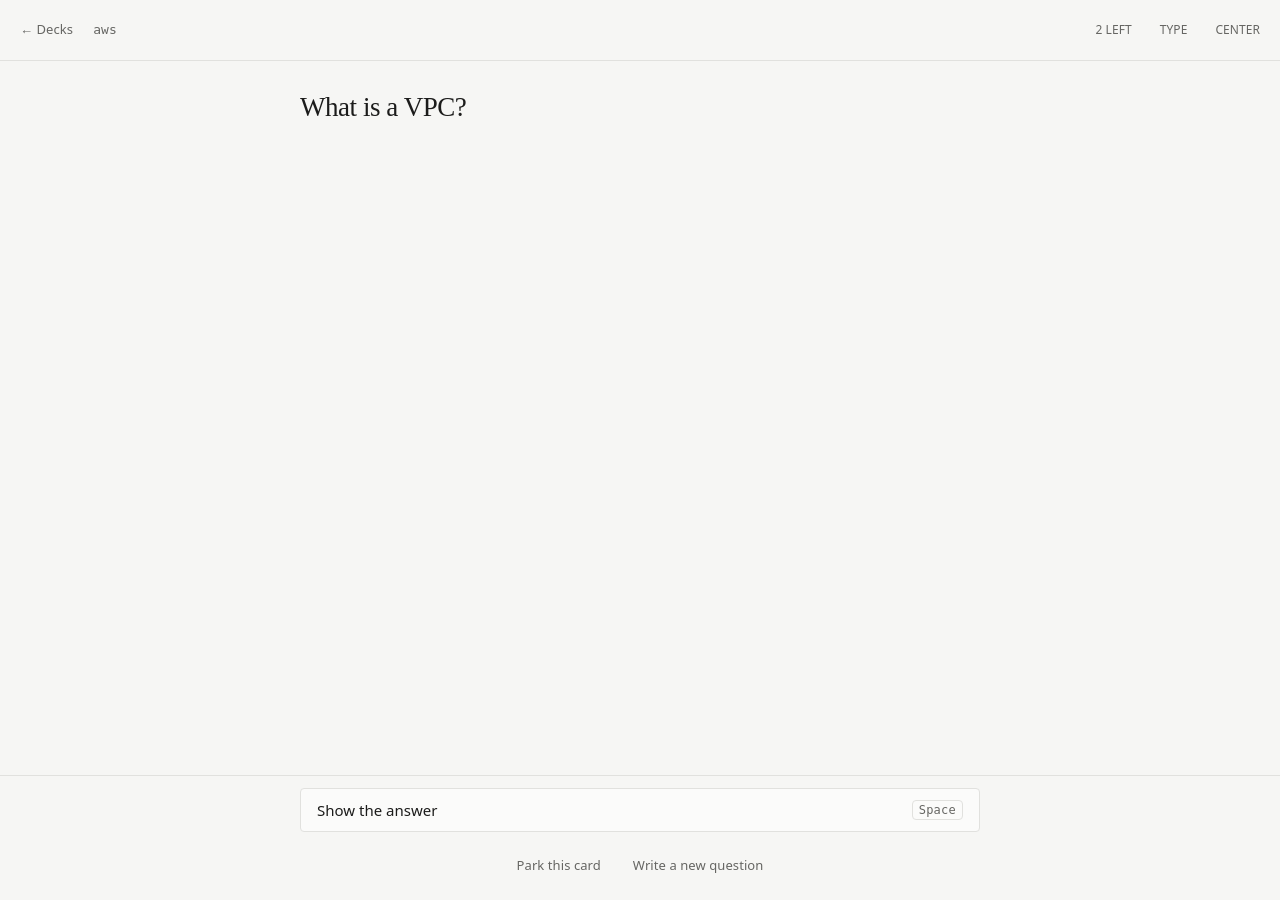
ReviewSession undoing the last step (#600) › #1135 I2 an undo pressed while the rating's write retries lands after it and brings the card back
Expected: the field with class "cm-content" is shown, [300,92,466,122]
Click the button "Show the answer Space".
click(377, 810)  # box [300,788,980,832]
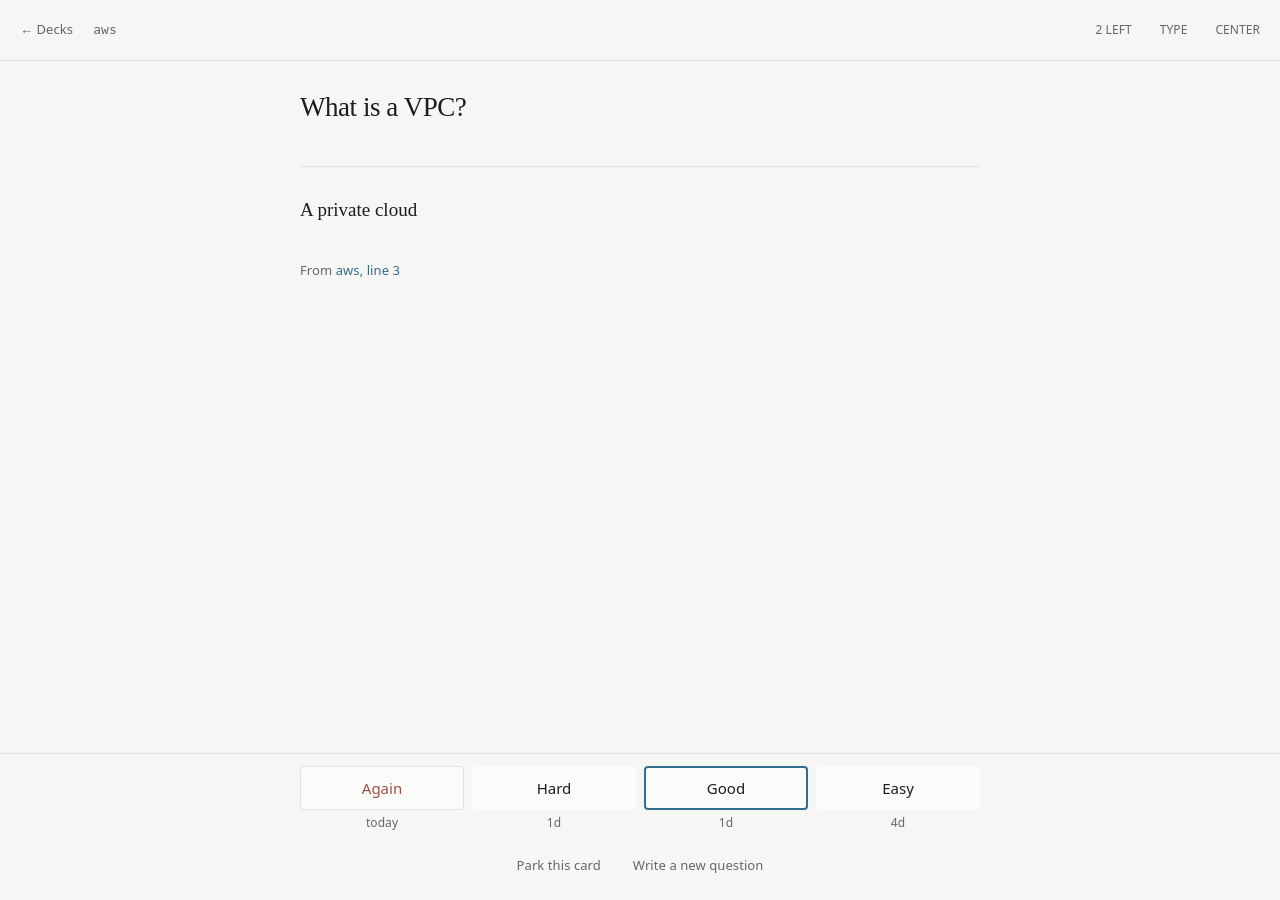
Click the button "Good".
click(726, 788)  # box [644,766,808,810]
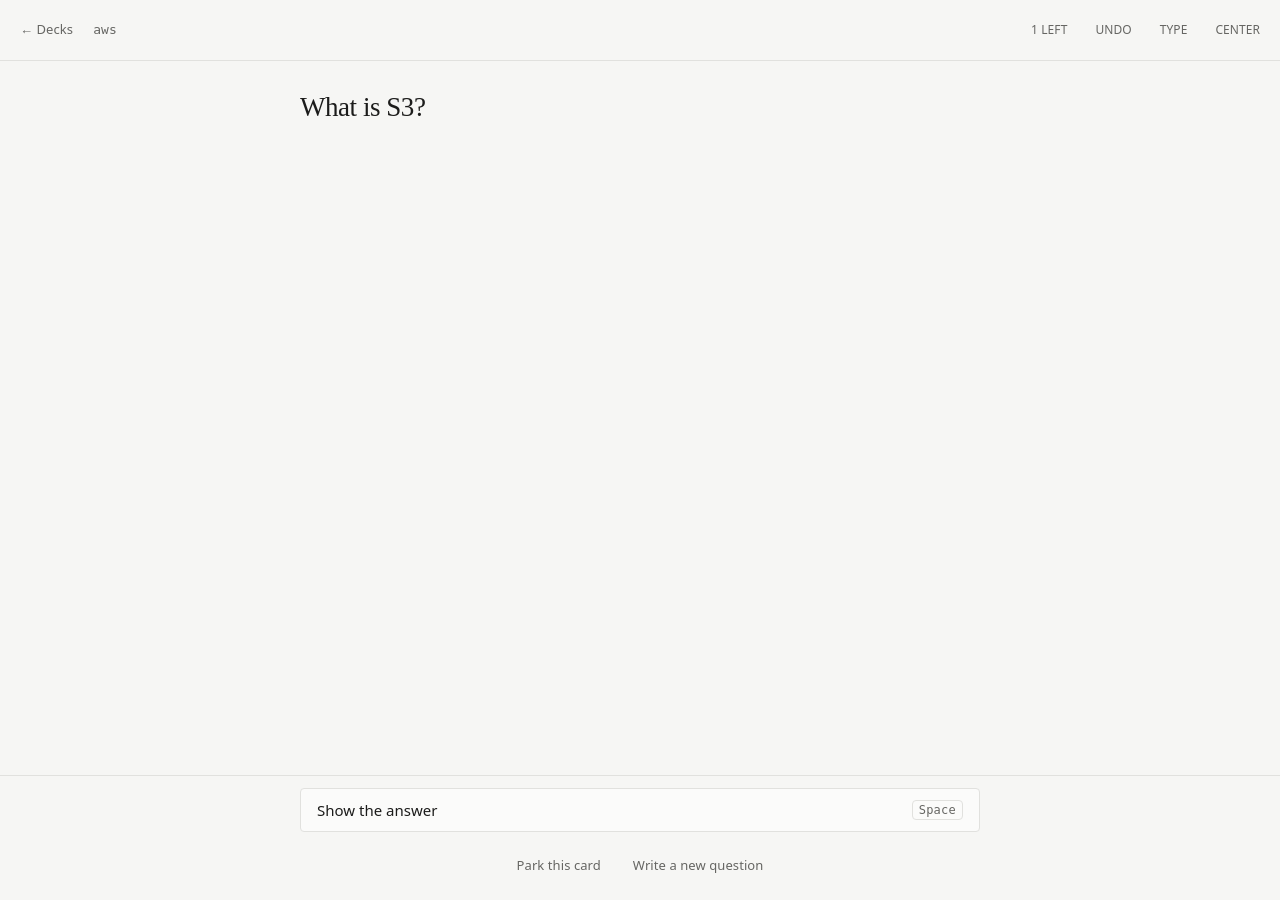
Now the button "Undo" is shown
Click the button "Undo".
click(1114, 30)  # box [1087,8,1140,52]
Wait 1000 ms
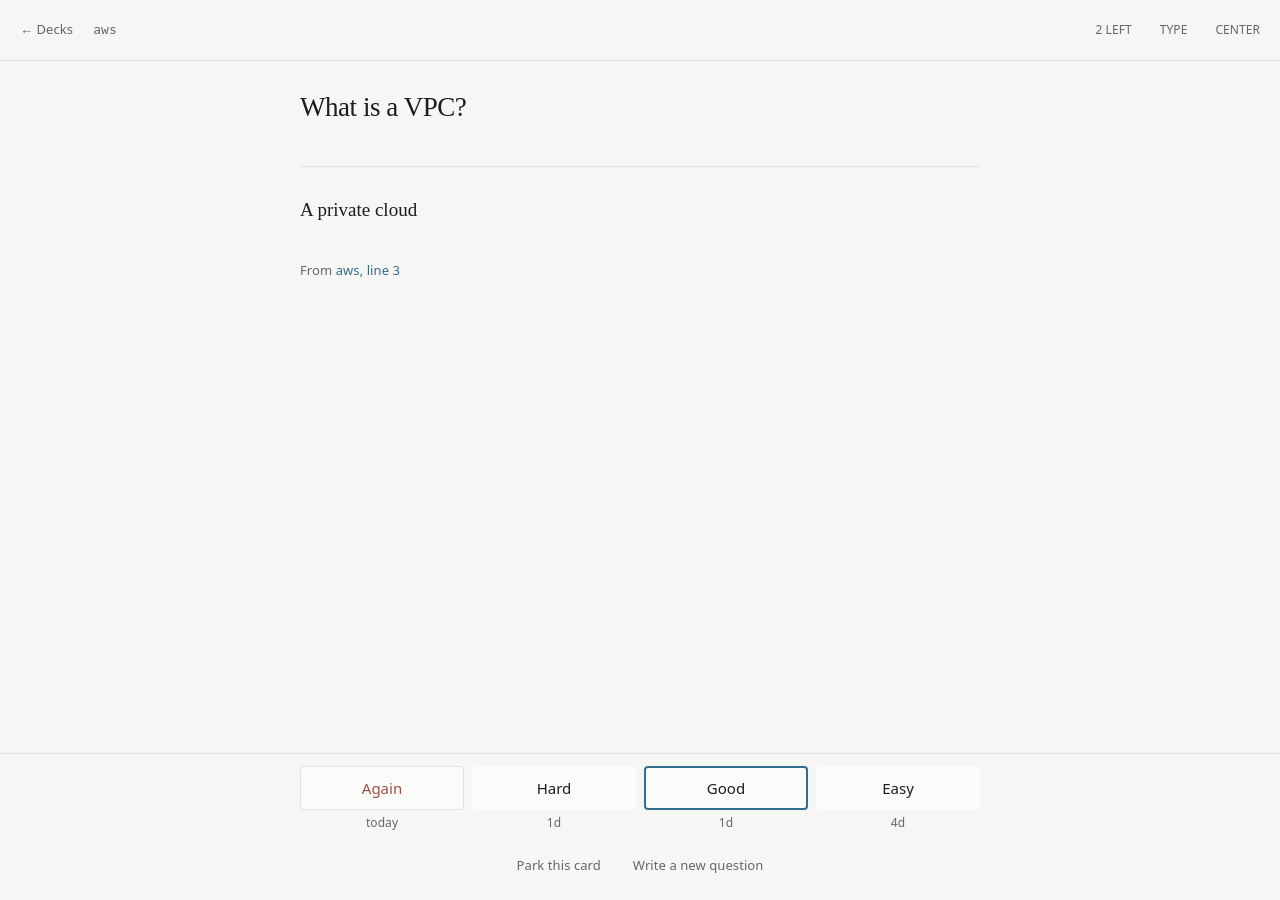
Now the element with test id "review-card" shows "What is a VPC?", box [300,92,466,122]
Now the element with test id "review-back" reads "A private cloud", box [300,199,417,220]
